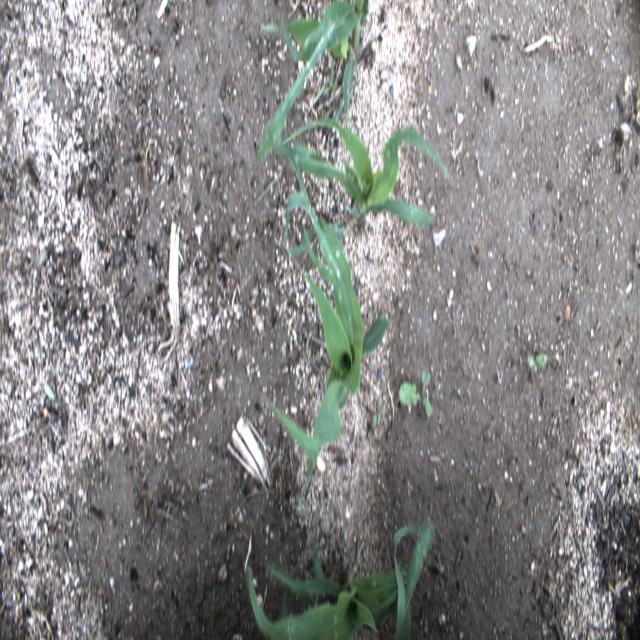crop: (264, 154, 390, 515), (273, 116, 455, 228), (256, 1, 369, 164), (248, 532, 408, 640), (393, 521, 435, 639)
weed: (398, 368, 432, 419), (322, 64, 337, 96), (526, 350, 548, 368), (372, 399, 381, 431)
